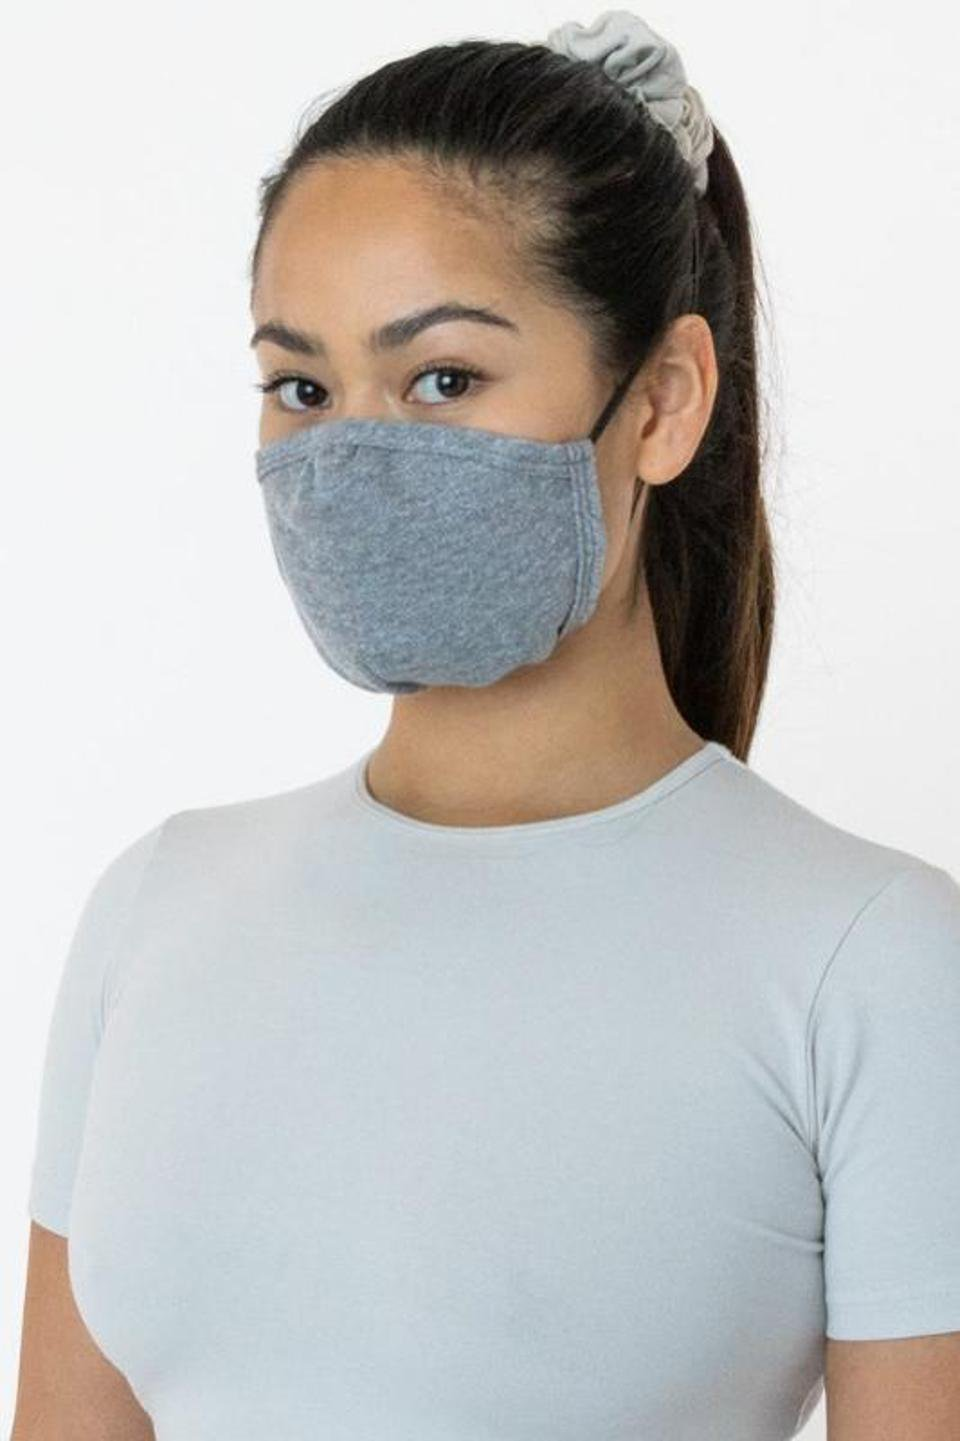mask: (185, 40, 833, 753)
